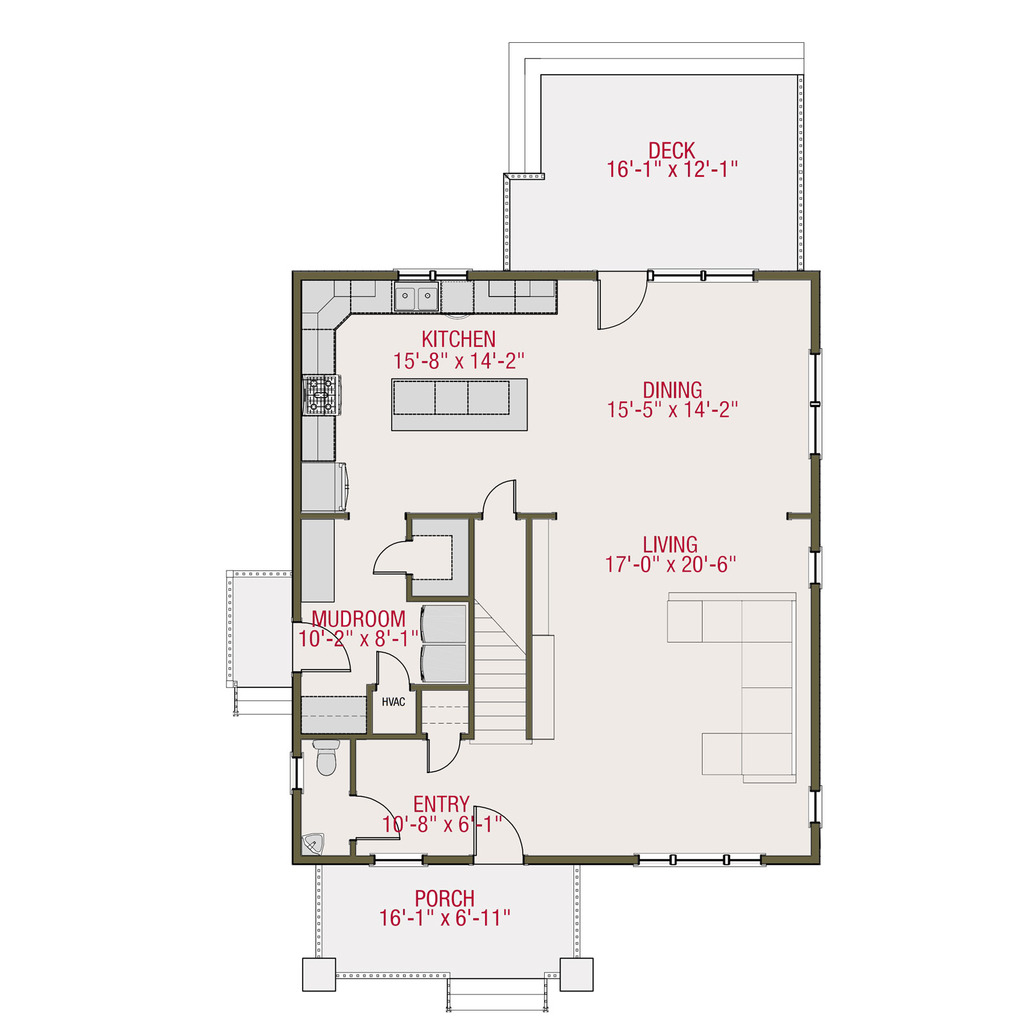door: (469, 803, 533, 864), (291, 614, 355, 672), (588, 274, 647, 335), (342, 783, 402, 842), (472, 475, 525, 521), (358, 536, 414, 577), (367, 647, 417, 691), (419, 732, 466, 774)
kitchen_bar: (373, 369, 544, 450)
large_sink: (303, 739, 344, 782)
stairs: (466, 558, 542, 746)
twin_sink: (377, 274, 452, 321)
window: (639, 839, 764, 871), (653, 267, 755, 286), (806, 347, 822, 453)
